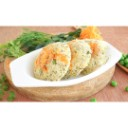idly: (36, 45, 70, 79), (66, 41, 90, 75), (85, 38, 105, 70)
